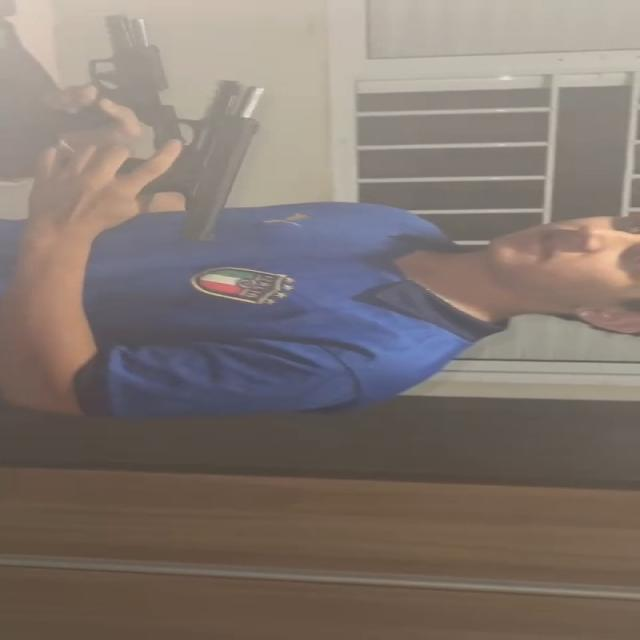guns: (157, 77, 270, 238), (98, 5, 178, 138)
